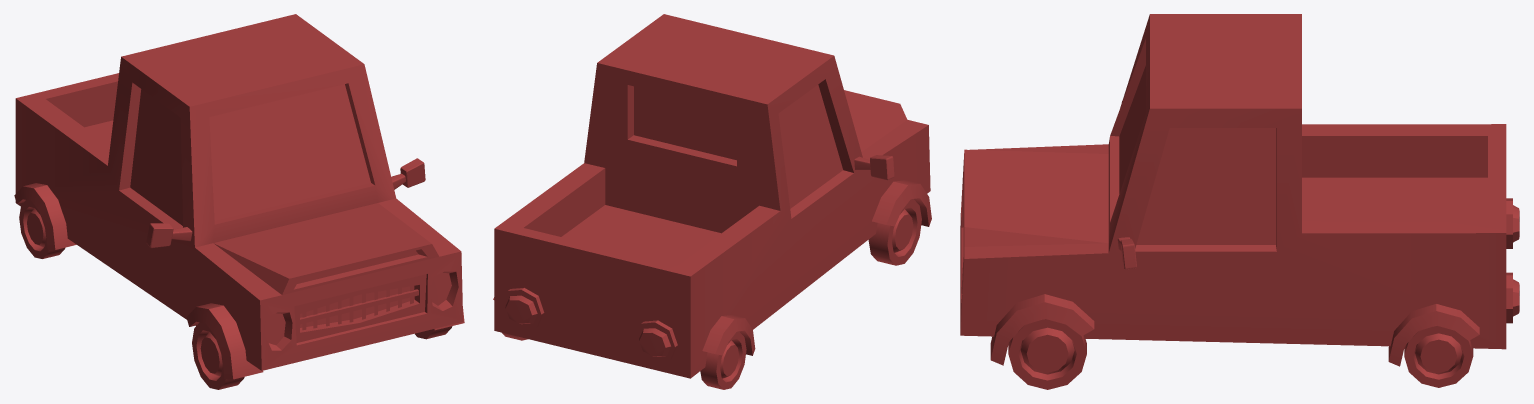
The model's file is Toy_Car04_001.fbx.
The picture shows the model from 3 angles, left to right: view 1: azimuth 30°, elevation 25°; view 2: azimuth 150°, elevation 25°; view 3: azimuth 270°, elevation 25°; orthographic projection. The views are drawn at different scales.
Visible parts, largest first — view 1: Toy_Car04_001; view 2: Toy_Car04_001; view 3: Toy_Car04_001.
Boxes of the visible parts, x1=… form: Toy_Car04_001: x1=14, y1=14, x2=464, y2=389; Toy_Car04_001: x1=493, y1=14, x2=931, y2=389; Toy_Car04_001: x1=960, y1=14, x2=1519, y2=389.
Bounding box in the file's own units: 49.25 × 41.19 × 78.08.
